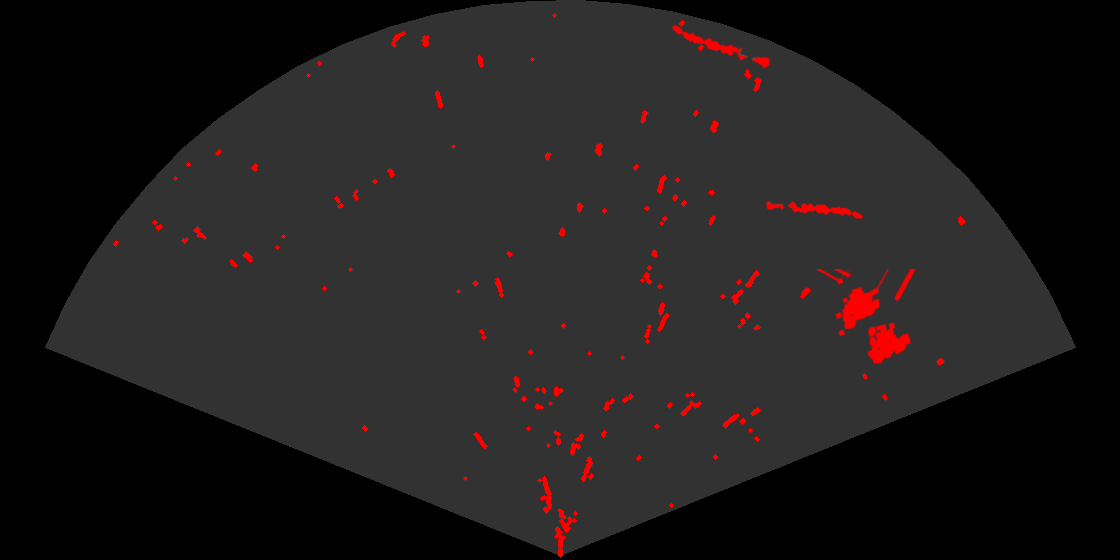cage: (814, 269, 917, 366)
chain: (670, 23, 772, 70), (764, 200, 865, 221)
